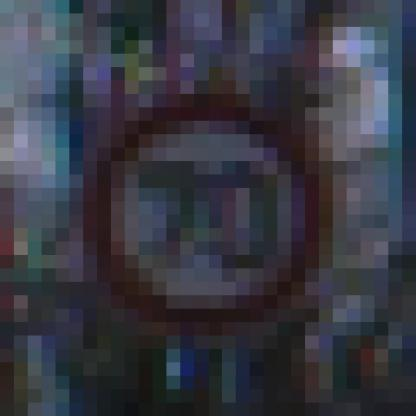Speed Limit 70: (94, 99, 324, 328)
